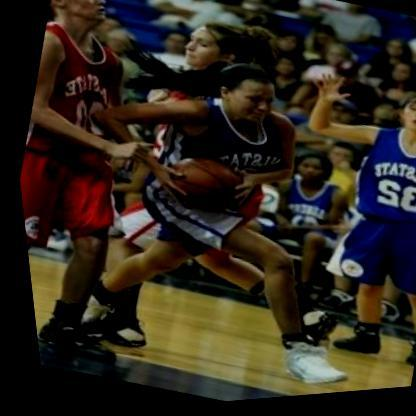basketball: (148, 143, 253, 232)
